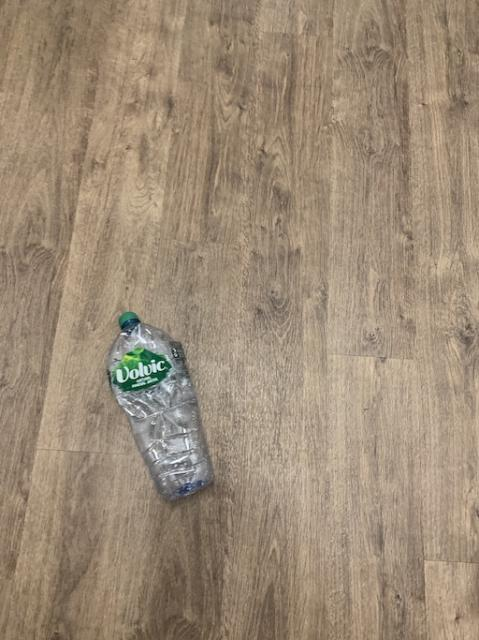plastic: (107, 310, 212, 498)
